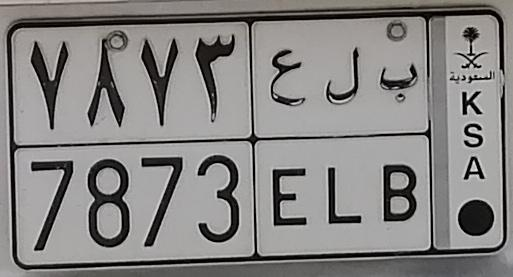3: (195, 32, 243, 245)
7: (28, 40, 74, 252), (140, 37, 184, 247)
8: (86, 37, 133, 249)
B: (379, 62, 418, 223)
E: (269, 48, 308, 227)
L: (323, 45, 363, 226)
